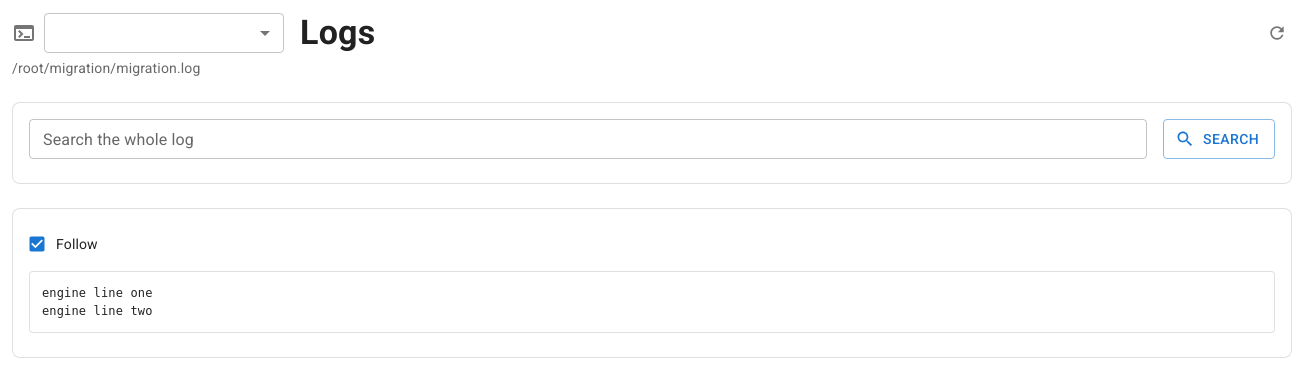
Test: Logs transcript picker › offers the job transcripts alongside the engine log
Press the mouse on the dropdown at (164, 33), box [44, 13, 284, 53]
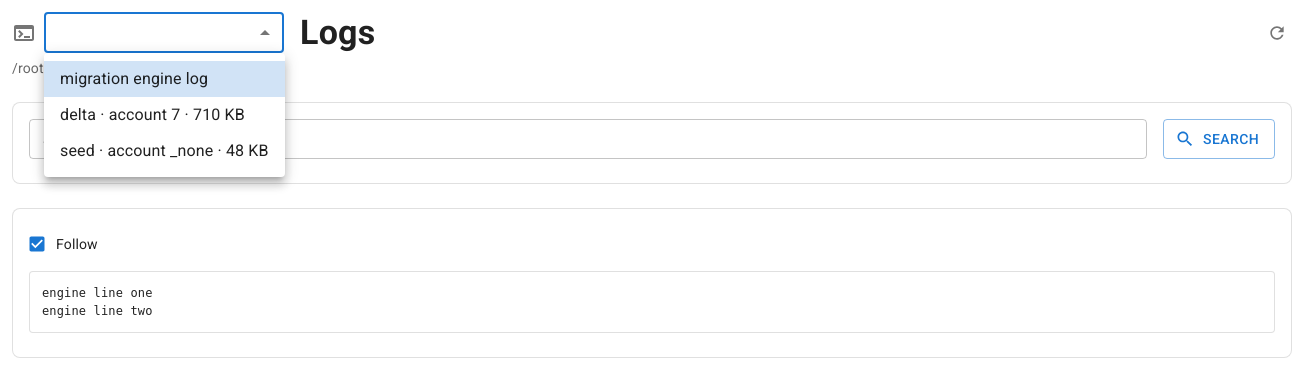
Now the option "migration engine log" is shown, box [44, 61, 285, 97]
